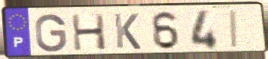4: (189, 8, 220, 51)
6: (150, 10, 182, 52)
G: (33, 13, 68, 54)
H: (70, 12, 109, 52)
I: (229, 9, 241, 50)
K: (112, 12, 143, 51)
